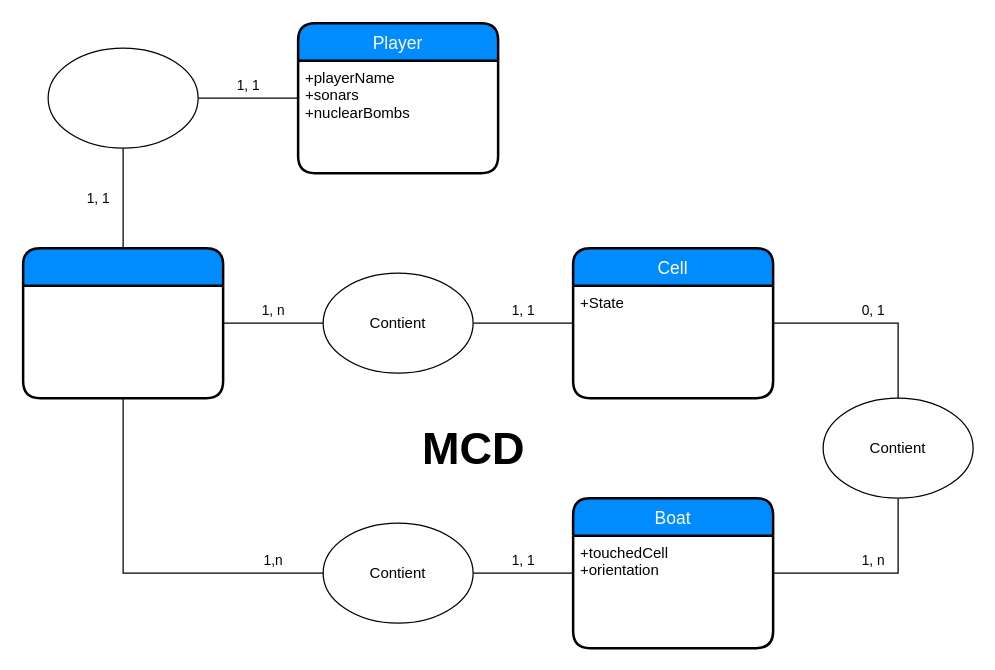
The diagram is 995 pixels wide and 670 high, and some of its shapes have lost their labels. The shapes that lost their labels are listed below. From the top down, each one's centre as x and y in pixels, then its label:
At point 122,97: "Possède".
At point 122,322: "GridModel".
